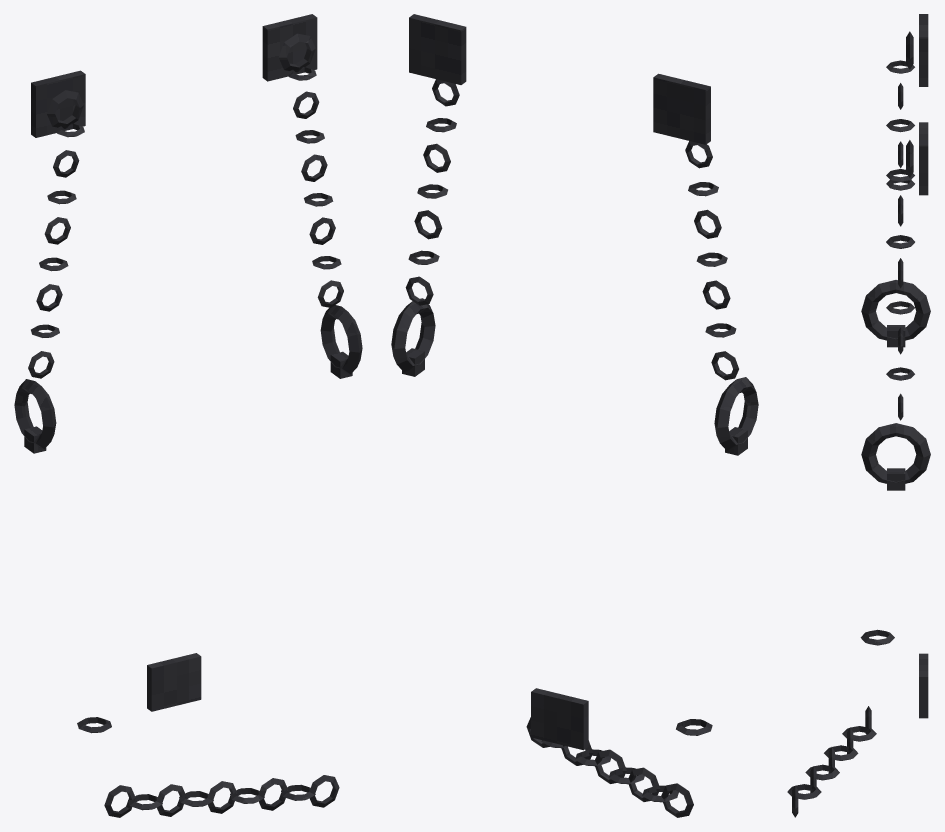
Rendered from wall_shackles.glb.
The picture shows the model from 3 angles, left to right: view 1: azimuth 30°, elevation 25°; view 2: azimuth 150°, elevation 25°; view 3: azimuth 270°, elevation 25°; orthographic projection. The views are drawn at different scales.
Parts seen in each view (by area): view 1: body; view 2: body; view 3: body.
Boxes of the visible parts, bbox=[...] form: body: bbox=[14, 14, 362, 817]; body: bbox=[391, 14, 758, 817]; body: bbox=[787, 14, 930, 817].
Bounding box in the file's own units: 0.772 × 1.68 × 0.314.
Materials: 1 (1 with a texture image).
